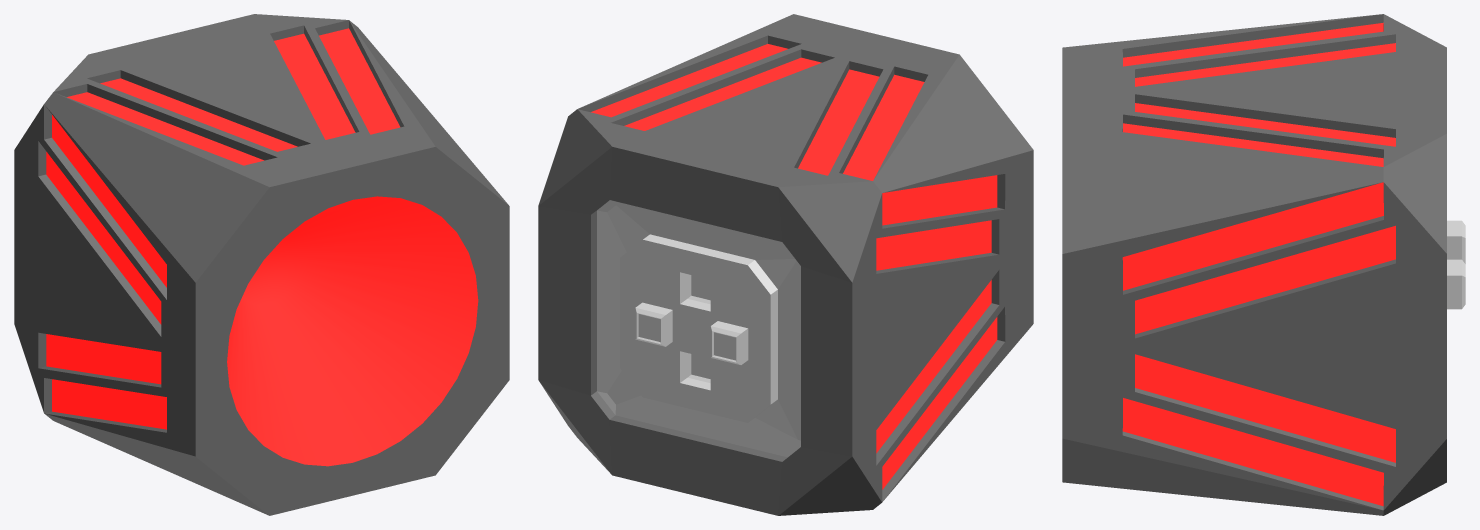
The model's file is ThrusterSmall.glb.
The picture shows the model from 3 angles, left to right: view 1: azimuth 30°, elevation 25°; view 2: azimuth 150°, elevation 25°; view 3: azimuth 270°, elevation 25°; orthographic projection. The views are drawn at different scales.
Visible parts, largest first — view 1: Cube; view 2: Cube, Cube.006; view 3: Cube, Cube.006.
Part boxes in pixels (x1,y1,x2,y2): Cube: (14, 14, 509, 515); Cube: (538, 14, 1033, 515); Cube.006: (538, 147, 852, 515); Cube: (1062, 14, 1446, 515); Cube.006: (1447, 220, 1465, 309).
Bounding box in the file's own units: 2.5 × 2.5 × 2.62.
